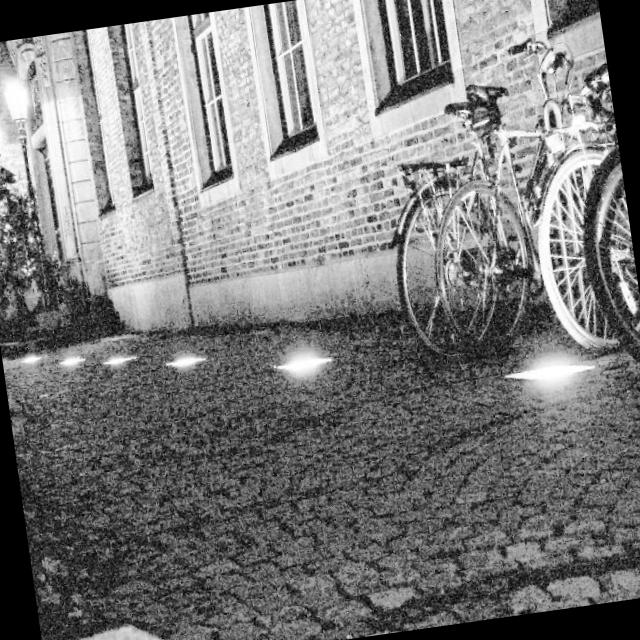Bicycle: (359, 80, 548, 372), (477, 55, 640, 364), (549, 42, 640, 369)
